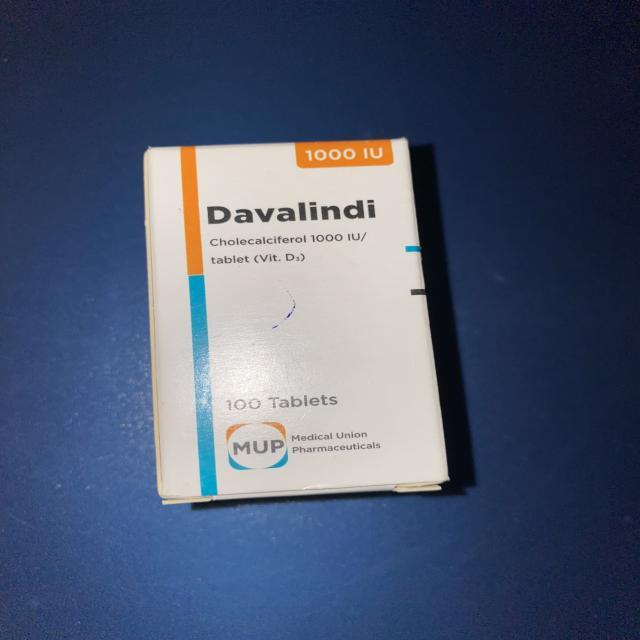Medicine Name: (201, 199, 384, 227)
